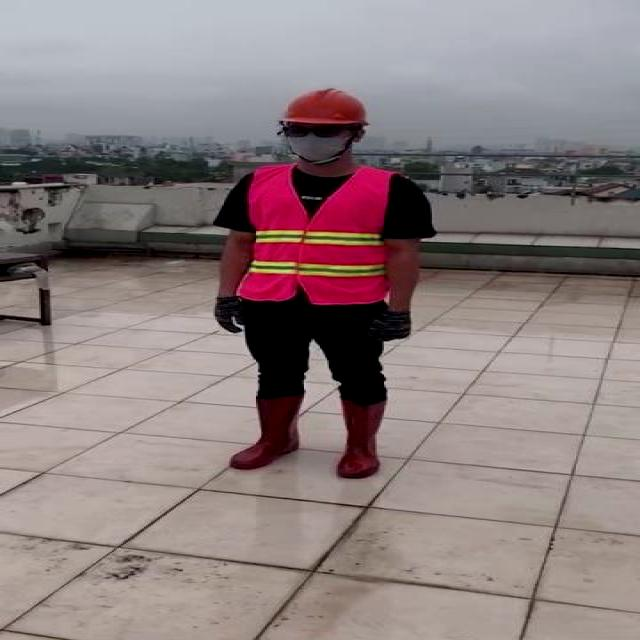boots: (231, 392, 306, 469), (331, 394, 391, 477)
face_mask: (282, 124, 354, 160)
glasses: (277, 120, 351, 140)
hand_glove: (368, 308, 418, 343), (203, 295, 245, 336)
head_helmet: (277, 86, 370, 126)
person: (206, 84, 438, 482)
vest: (236, 166, 393, 300)
